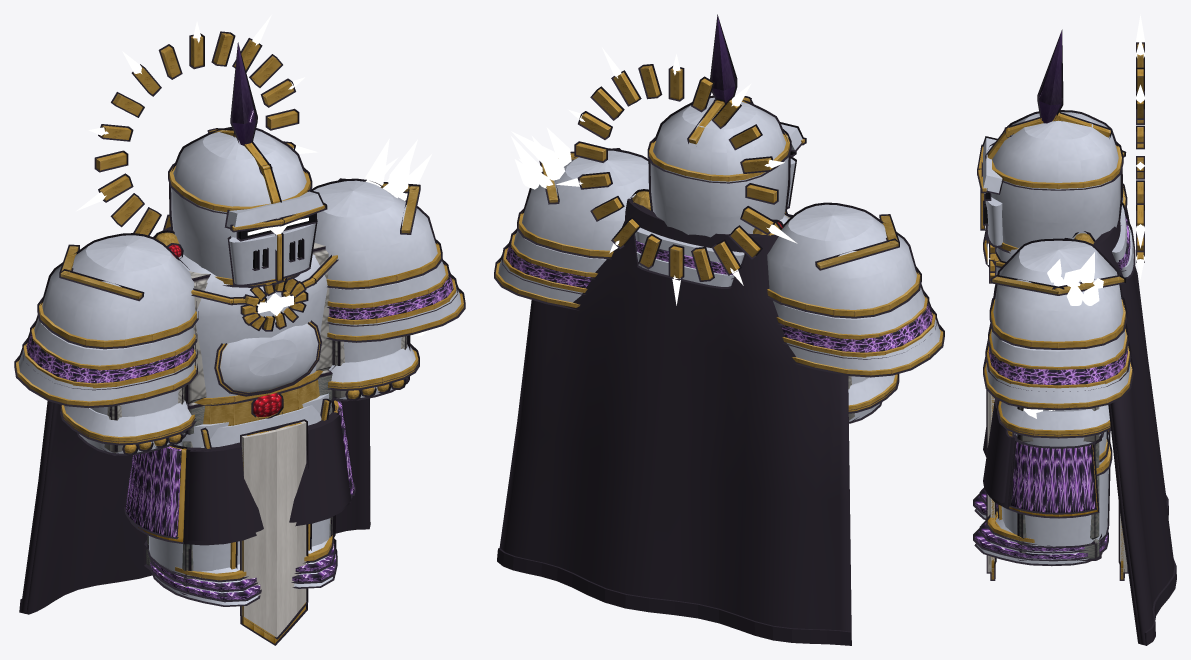
Rendered from KnightPaladin.fbx.
3 renders of one model, left to right at view 1: azimuth 30°, elevation 25°; view 2: azimuth 150°, elevation 25°; view 3: azimuth 270°, elevation 25°, orthographic. The views are drawn at different scales.
Visible parts, largest first — view 1: Head_Armor, RightUpperArm_Armor, UpperTorso_ArmorOutline, LowerTorso_Armor, LeftUpperArm_Armor, UpperTorso_Armor, LowerTorso_ArmorOutline, Head_ArmorOutline, RightLowerArm_Armor, LeftLowerArm_Armor, RightUpperArm_ArmorOutline, RightFoot_Armor (+8 smaller); view 2: UpperTorso_ArmorOutline, Head_Armor, RightUpperArm_Armor, LeftUpperArm_Armor, Head_ArmorOutline, RightUpperArm_ArmorOutline, LeftUpperArm_Glow, LeftUpperArm_ArmorOutline, RightLowerArm_Armor, Head_Glow; view 3: Head_Armor, LeftUpperArm_Armor, UpperTorso_ArmorOutline, LowerTorso_Armor, LowerTorso_ArmorOutline, LeftLowerLeg_Armor, Head_ArmorOutline, LeftLowerArm_Armor, LeftUpperArm_ArmorOutline, LeftFoot_Armor, LeftUpperArm_Glow, LeftFoot_ArmorOutline (+7 smaller).
Boxes of the visible parts, <box> form: Head_Armor: <box>96,33,325,285</box>; RightUpperArm_Armor: <box>16,235,196,406</box>; UpperTorso_ArmorOutline: <box>19,226,370,614</box>; LowerTorso_Armor: <box>125,375,354,643</box>; LeftUpperArm_Armor: <box>313,180,463,340</box>; UpperTorso_Armor: <box>155,232,337,403</box>; LowerTorso_ArmorOutline: <box>124,392,355,645</box>; Head_ArmorOutline: <box>94,31,327,287</box>; RightLowerArm_Armor: <box>61,389,194,443</box>; LeftLowerArm_Armor: <box>328,337,418,388</box>; RightUpperArm_ArmorOutline: <box>14,233,198,408</box>; RightFoot_Armor: <box>150,561,260,605</box>; UpperTorso_ArmorOutline: <box>497,189,851,645</box>; Head_Armor: <box>576,16,804,286</box>; RightUpperArm_Armor: <box>767,204,943,375</box>; LeftUpperArm_Armor: <box>495,150,648,307</box>; Head_ArmorOutline: <box>574,14,806,288</box>; RightUpperArm_ArmorOutline: <box>767,202,944,377</box>; LeftUpperArm_Glow: <box>511,127,571,189</box>; LeftUpperArm_ArmorOutline: <box>494,148,648,310</box>; RightLowerArm_Armor: <box>848,374,897,411</box>; Head_Glow: <box>556,47,797,305</box>; Head_Armor: <box>978,31,1143,277</box>; LeftUpperArm_Armor: <box>984,240,1132,408</box>; UpperTorso_ArmorOutline: <box>989,218,1176,645</box>; LowerTorso_Armor: <box>987,391,1127,579</box>; LowerTorso_ArmorOutline: <box>983,390,1128,580</box>; LeftLowerLeg_Armor: <box>998,439,1110,546</box>; Head_ArmorOutline: <box>977,29,1144,278</box>; LeftLowerArm_Armor: <box>998,401,1110,436</box>; LeftUpperArm_ArmorOutline: <box>983,238,1133,410</box>; LeftFoot_Armor: <box>974,511,1107,564</box>; LeftUpperArm_Glow: <box>1047,252,1103,305</box>; LeftFoot_ArmorOutline: <box>973,509,1108,566</box>.
Bounding box in the file's own units: 568 × 742 × 248.
5 materials, 3 textured.
